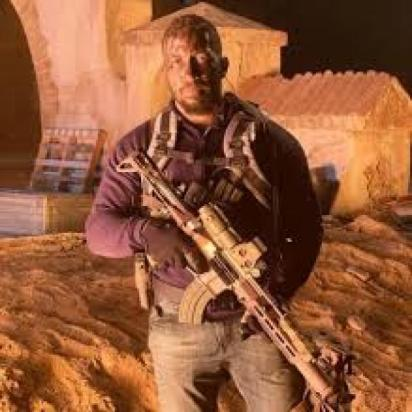Gun: (119, 151, 341, 400)
